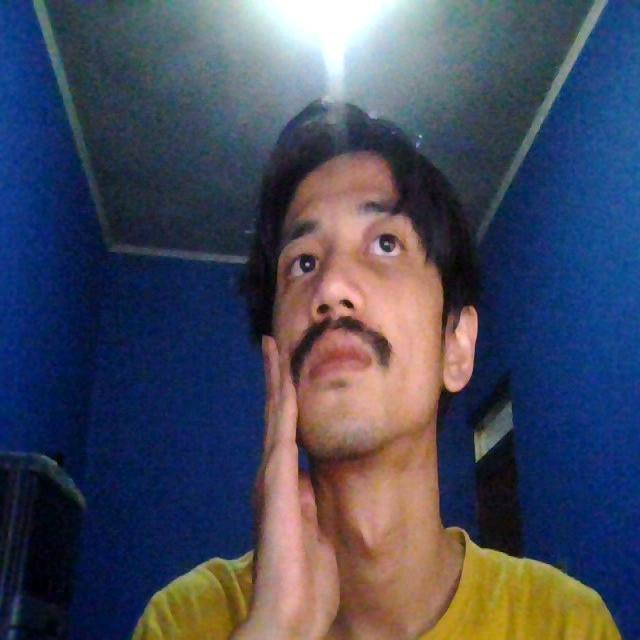movement: (229, 312, 346, 638)
